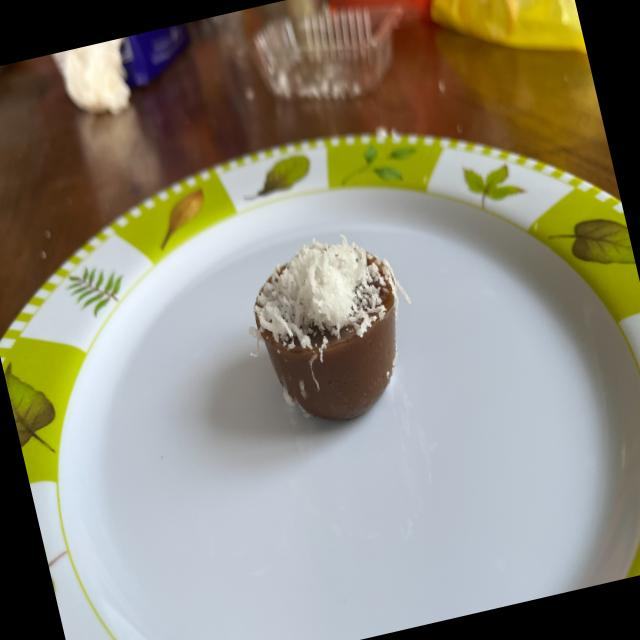Kuih lompang: (249, 235, 409, 420)
